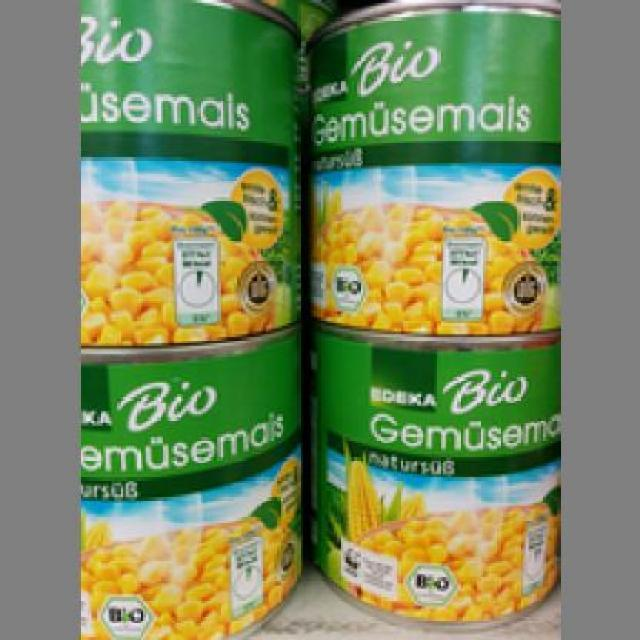Corn: (300, 0, 554, 340), (297, 320, 552, 626), (77, 0, 300, 343), (77, 332, 303, 634)
